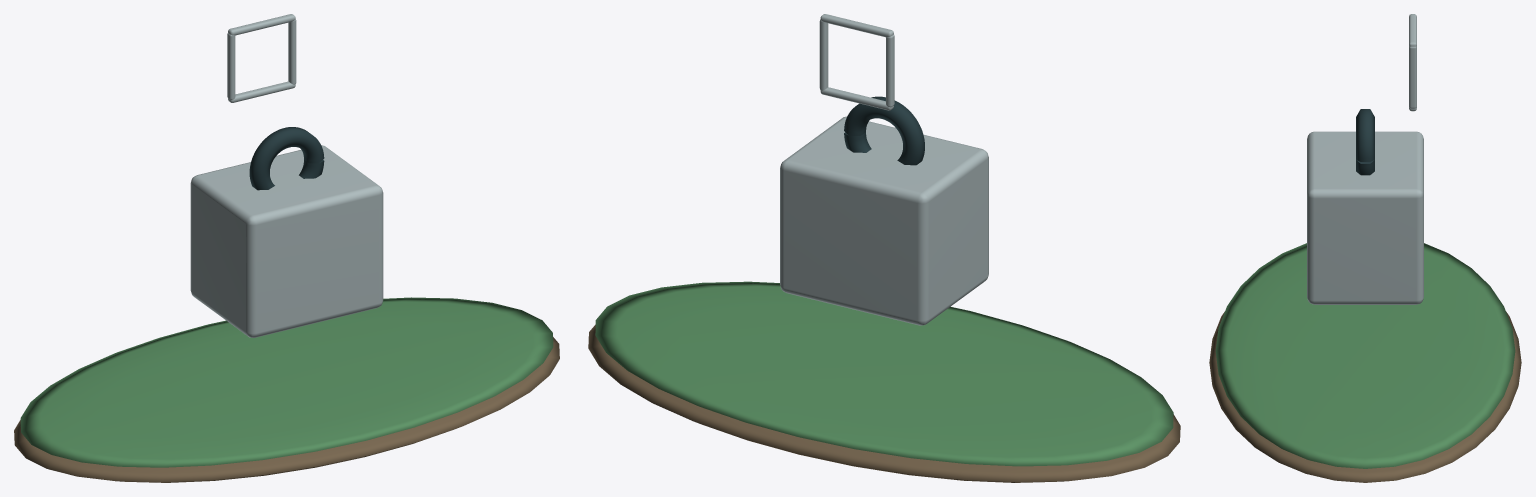
Rendered from complete-third-existing-object.glb.
3 renders of one model, left to right at view 1: azimuth 30°, elevation 25°; view 2: azimuth 150°, elevation 25°; view 3: azimuth 270°, elevation 25°, orthographic. The views are drawn at different scales.
Parts seen in each view (by area): view 1: complete-third-existing-object_surface_01, complete-third-existing-object_surface_02, complete-third-existing-object_surface_00, complete-third-existing-object_surface_03; view 2: complete-third-existing-object_surface_01, complete-third-existing-object_surface_02, complete-third-existing-object_surface_00, complete-third-existing-object_surface_03; view 3: complete-third-existing-object_surface_01, complete-third-existing-object_surface_02, complete-third-existing-object_surface_00, complete-third-existing-object_surface_03.
Boxes of the visible parts, x1,y1,x2,y2 form: complete-third-existing-object_surface_01: [20, 297, 553, 467]; complete-third-existing-object_surface_02: [190, 14, 383, 337]; complete-third-existing-object_surface_00: [14, 337, 559, 482]; complete-third-existing-object_surface_03: [249, 127, 324, 190]; complete-third-existing-object_surface_01: [595, 281, 1173, 466]; complete-third-existing-object_surface_02: [780, 14, 988, 325]; complete-third-existing-object_surface_00: [588, 324, 1180, 482]; complete-third-existing-object_surface_03: [844, 96, 924, 165]; complete-third-existing-object_surface_01: [1215, 243, 1515, 468]; complete-third-existing-object_surface_02: [1307, 14, 1423, 304]; complete-third-existing-object_surface_00: [1209, 311, 1521, 482]; complete-third-existing-object_surface_03: [1356, 109, 1374, 175].
Bounding box in the file's own units: 4.56 × 3.08 × 2.5.
